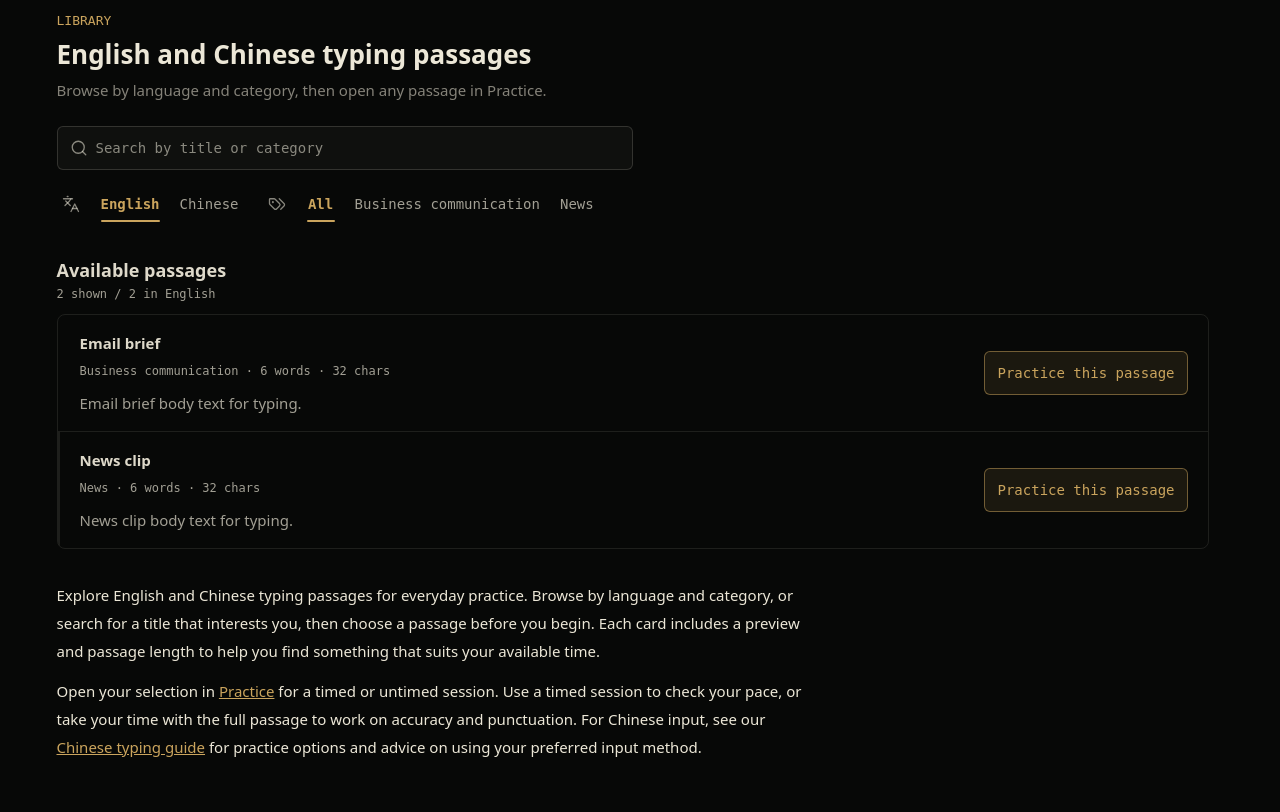
PassagesPage › keeps search, Language, and data-derived Category controls without public Style filtering
Expected: the heading "Email brief" is shown, [80,331,160,355]
Expected: the element named "Language" is shown, [56,182,246,226]
Click the button with aria-label "News category": click(577, 204) [552,182,602,226]
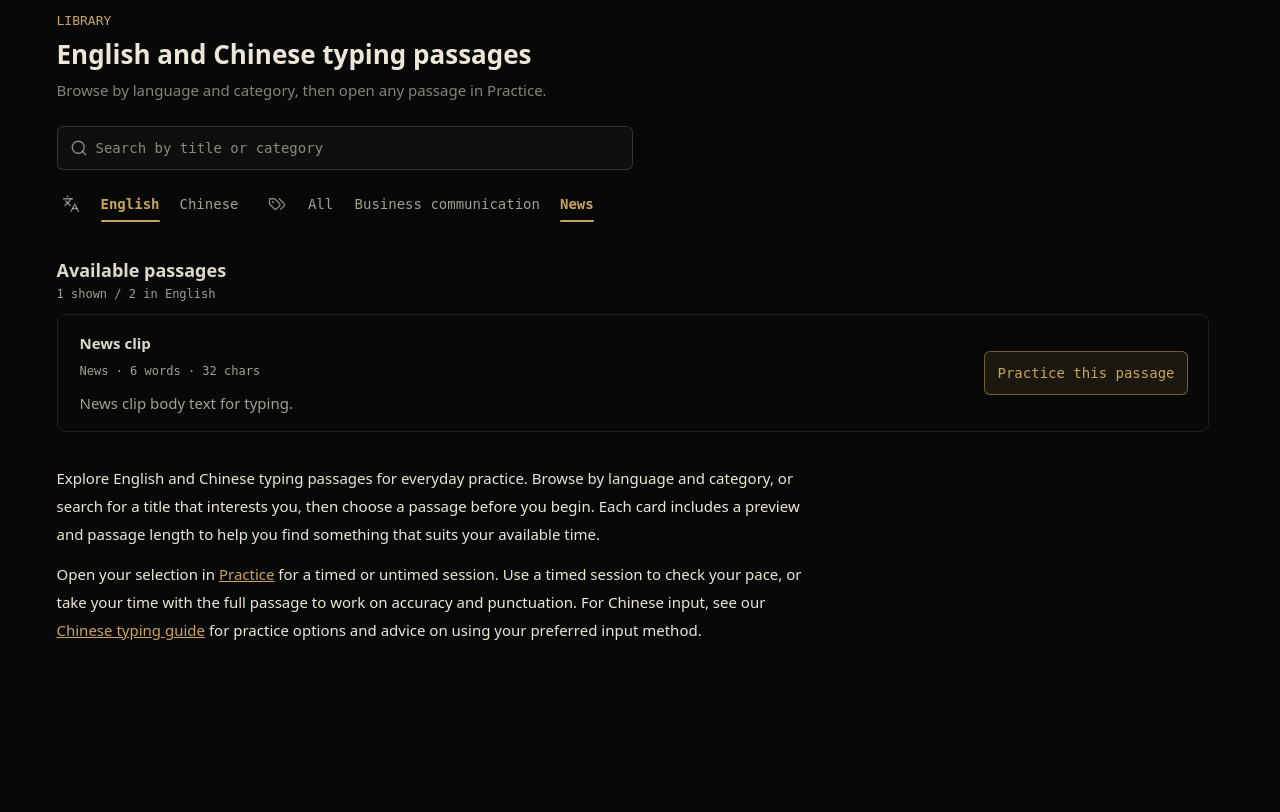
Expected: the heading "News clip" is shown, [80,331,151,355]
Now the heading "Email brief" is gone
